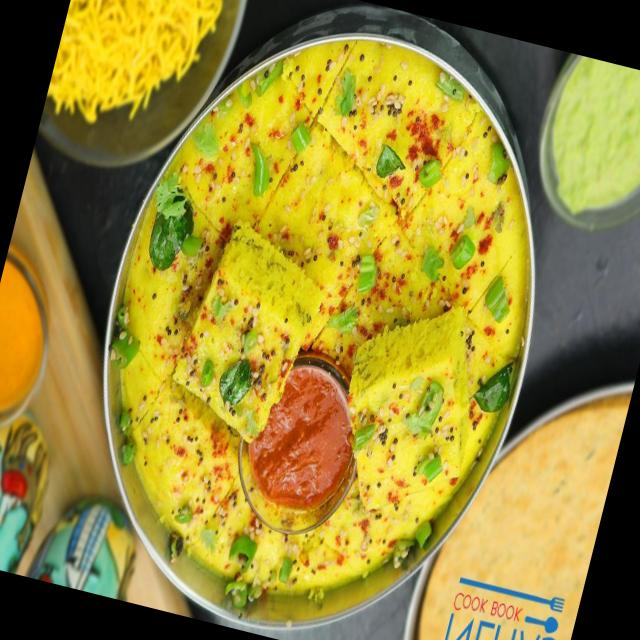dhokla: (41, 0, 602, 640)
